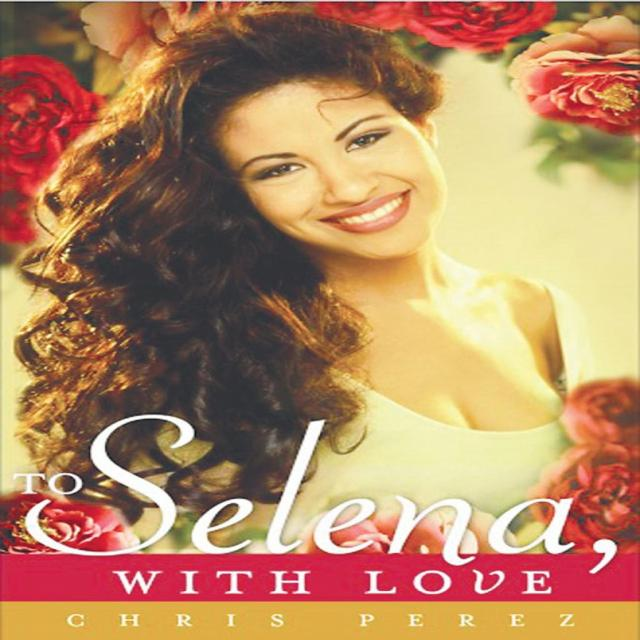nomask: (217, 76, 443, 256)
